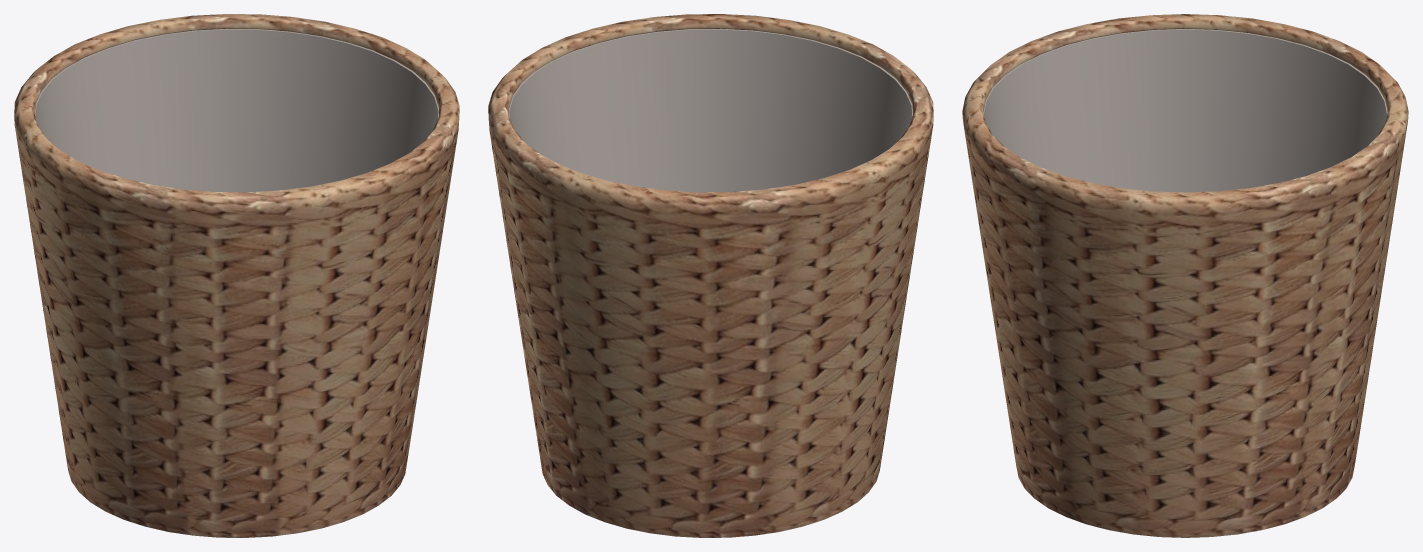
Rendered from 03 - FRIDFULL Plant pot - water hyacinth 24 cm.glb.
3 renders of one model, left to right at view 1: azimuth 30°, elevation 25°; view 2: azimuth 150°, elevation 25°; view 3: azimuth 270°, elevation 25°, orthographic.
Visible parts, largest first — view 1: Mesh_0; view 2: Mesh_0; view 3: Mesh_0.
Boxes of the visible parts, x1,y1,x2,y2 form: Mesh_0: (14,14,459,537); Mesh_0: (488,14,933,537); Mesh_0: (962,14,1408,537).
Bounding box in the file's own units: 0.28 × 0.25 × 0.28.
1 material, 1 textured.
